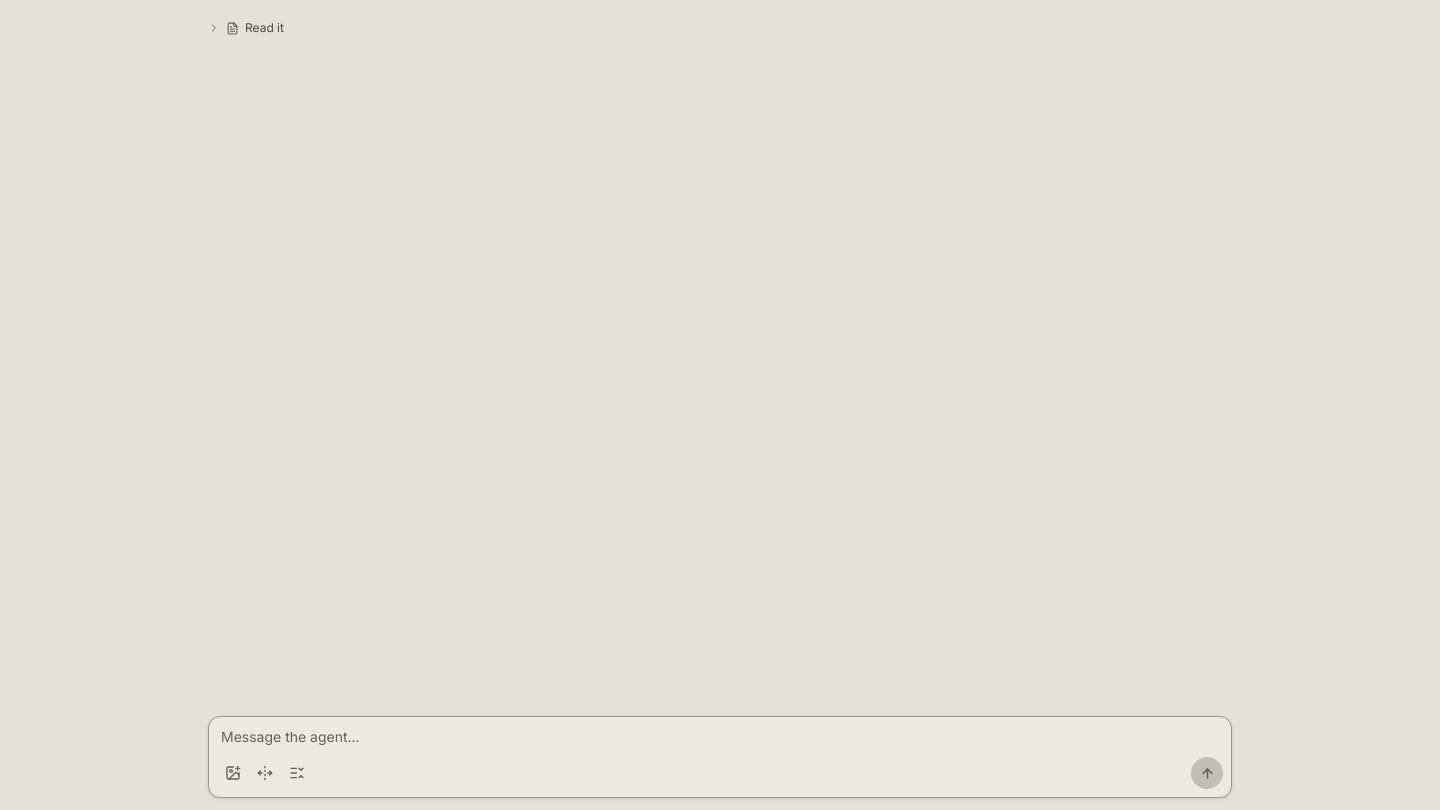
Test: WorkspaceChat rendering › shows a read as the file, highlighted for its path
The width and height of the screenshot is (1440, 810).
What coordinates should you click on to do the following:
click the button "Read it"
I would click on:
 (264, 28)
Its box is x1=202 y1=16 x2=1238 y2=40.
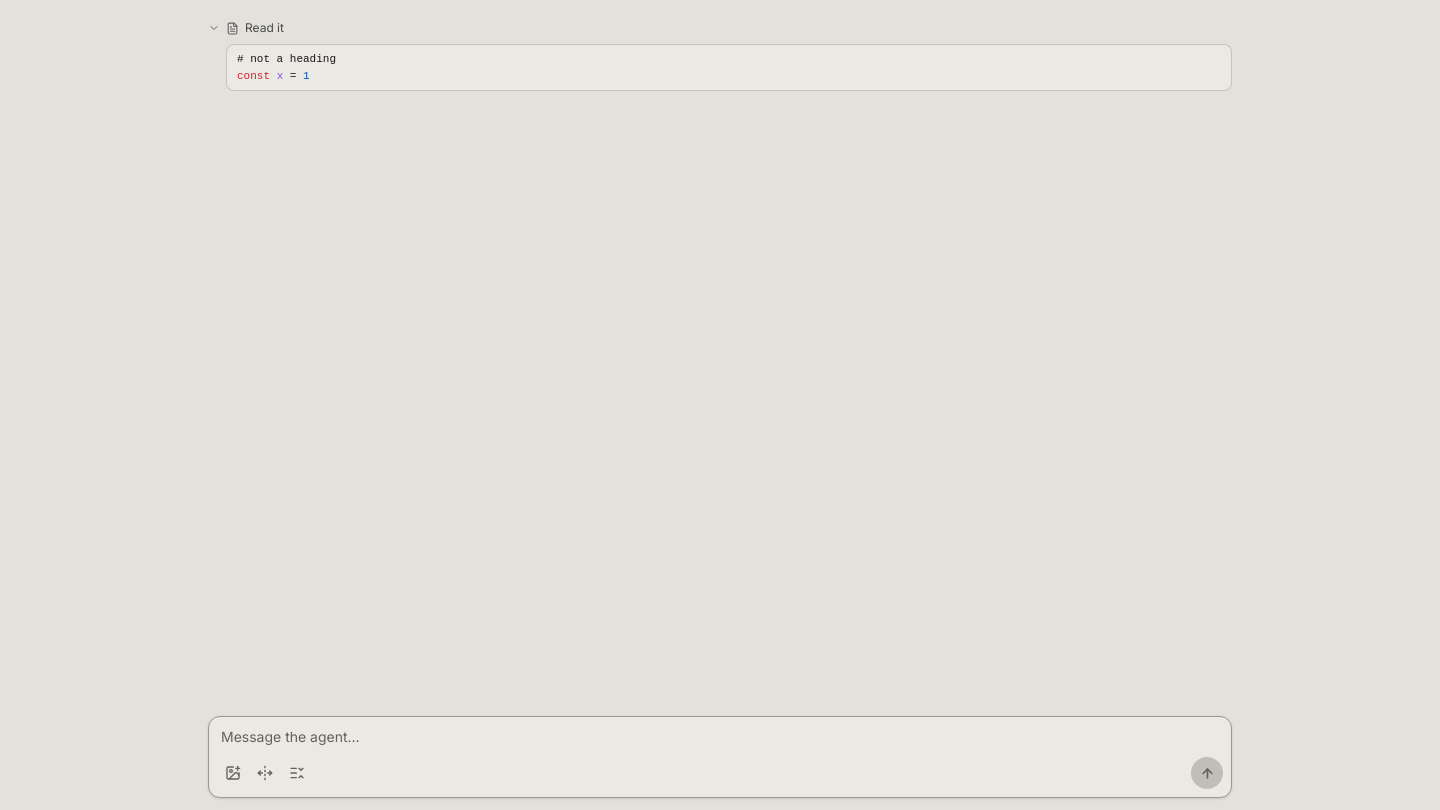
Expected: the element with class "diff-hl" shows "# not a heading", x1=237 y1=53 x2=336 y2=82
Expected: the text with class "tok-keyword" reads "const", x1=237 y1=70 x2=270 y2=82
